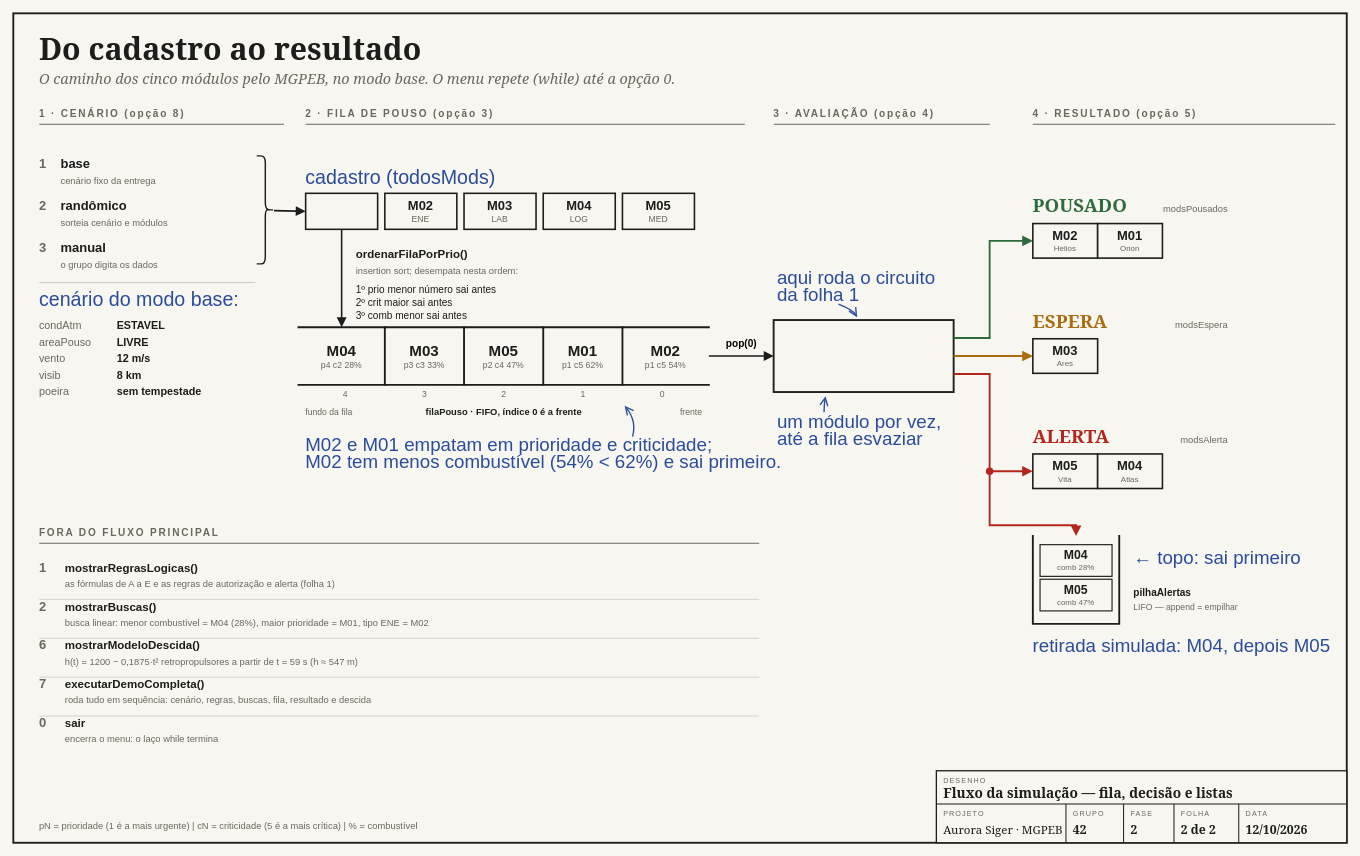
The diagram is 1360 pixels wide and 856 high, and some of its shapes have lost their labels. The centre of each missing label's shape, as x and y in pixels:
"avaliarPouso(mod) calcularChecks → A … E" belongs at [863,356].
"M01 HAB" belongs at [341,211].
